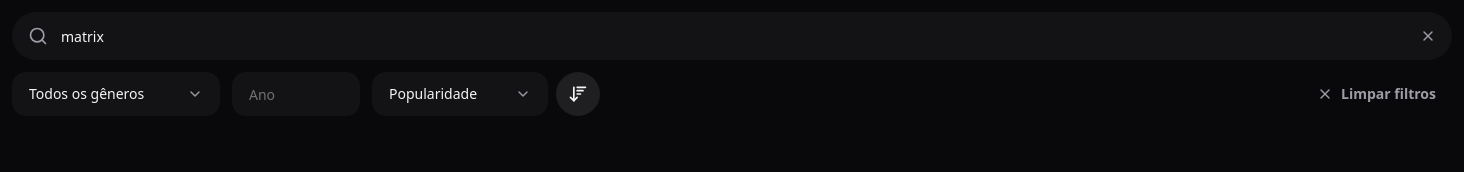
MovieFilters › não busca com menos de 2 caracteres e remove a busca anterior quando o texto encurta
Replace the text in the search field named "Buscar filmes" with " m ". click: (732, 36)
box: [12,12,1452,60]
Wait 300 ms
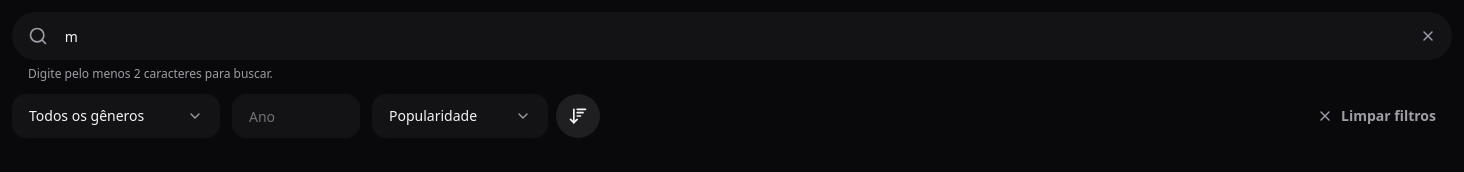
expect the text "Digite pelo menos 2 caracteres para buscar." is shown: met, box [28,65,273,82]
